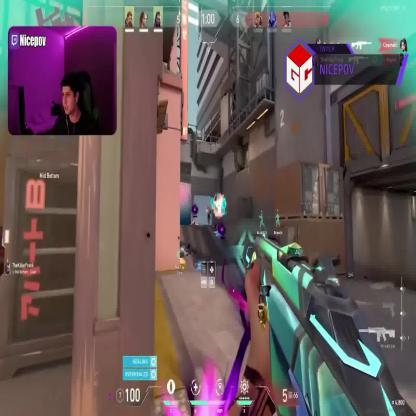enemy: (206, 206, 212, 224)
enemy_head: (208, 206, 210, 211)
